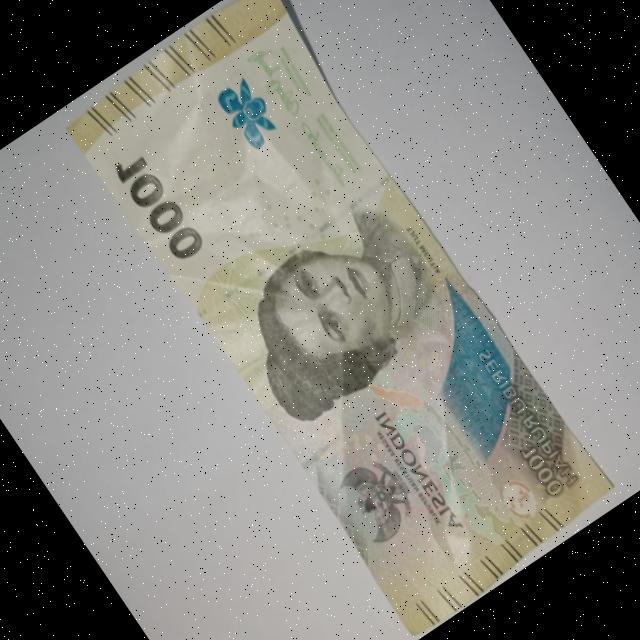1K: (50, 0, 633, 640)
